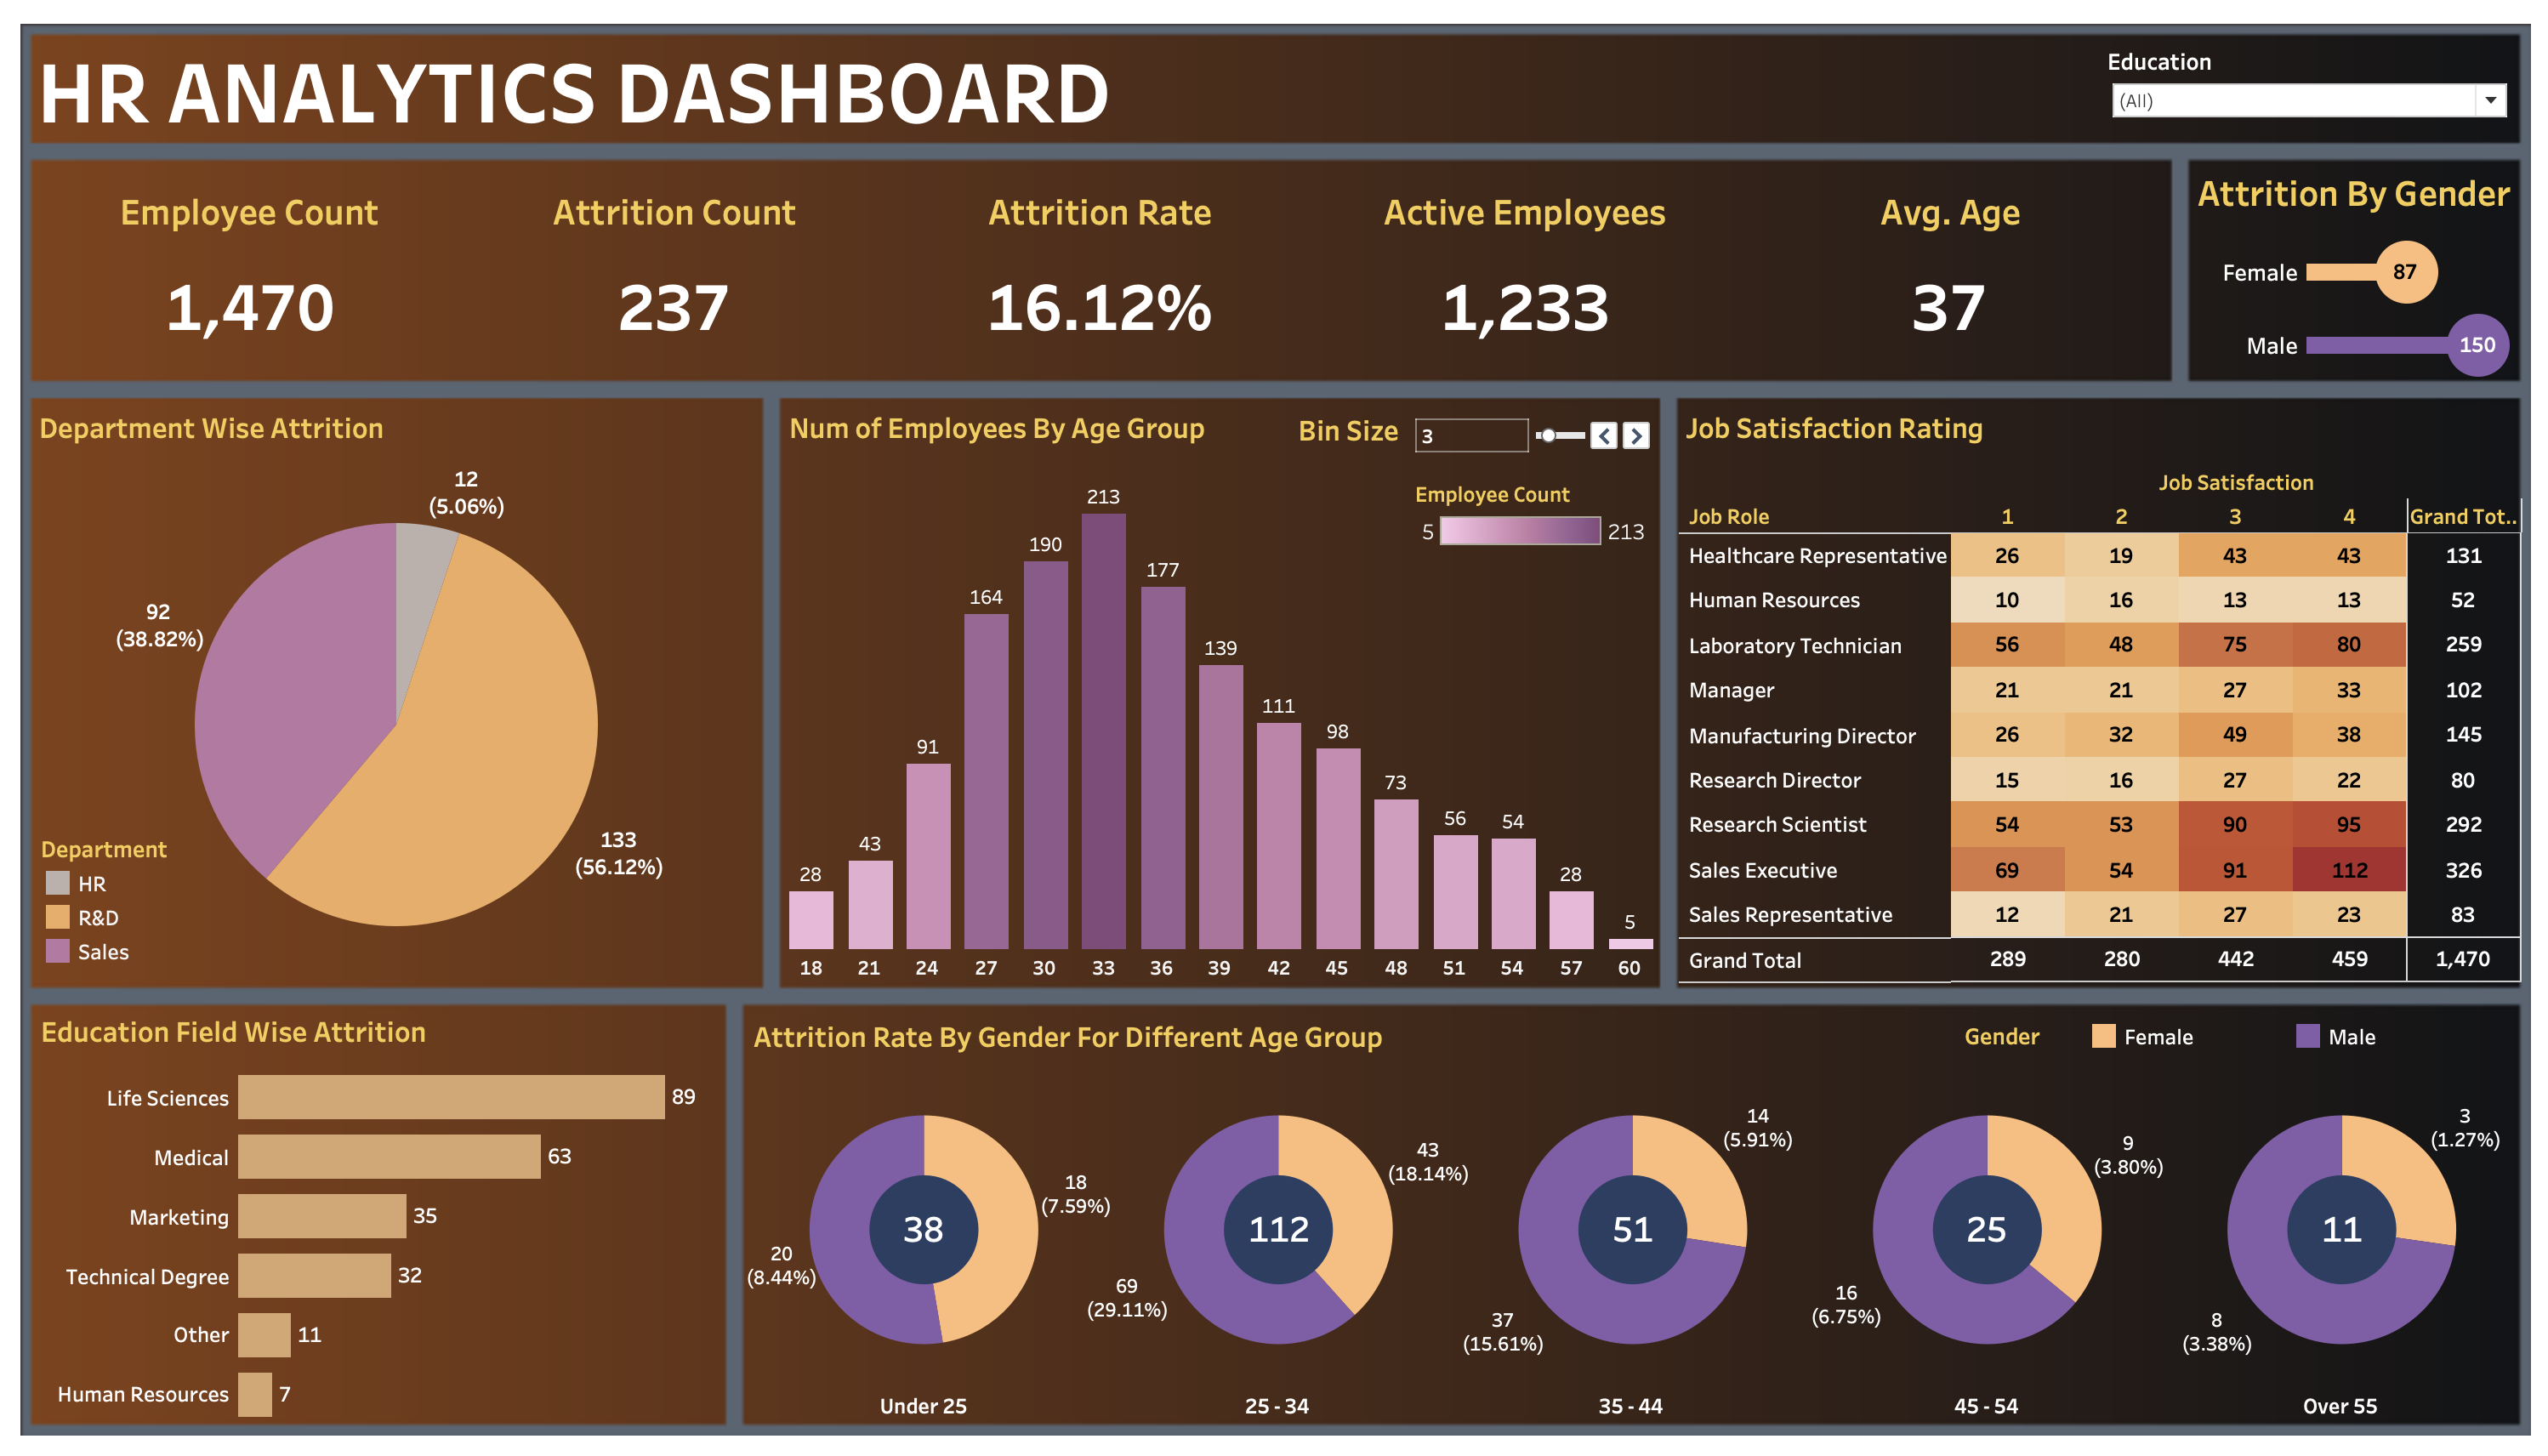

The dashboard page shown, as its layout file describes it:
{"tool":"tableau","page":{"name":"HR Analytics Dashboard","canvas":[1500,900],"ordinal":0},"visuals":[{"type":"image","param":"Image/HR background.pptx.png","box":[8,8,1484,884]},{"type":"text","box":[19,41,739,64]},{"type":"filter","title":"Department Wise Attrition","param":"[federated.1qeam2m1rrxl6e14pl3xk0htafzo].[none:Education:nk]","box":[1239,48,238,53]},{"type":"worksheet","title":"Attrition By Gender","mark":"Automatic","rows":["Gender"],"cols":["Calculation_2371848947987435520","Calculation_2371848947987435520"],"box":[1288,116,193,129]},{"type":"worksheet","title":"KPI","mark":"Automatic","box":[22,119,1250,122]},{"type":"worksheet","title":"Department Wise Attrition","mark":"Pie","box":[19,257,428,343]},{"type":"worksheet","title":"Num of Employees By Age Group","mark":"Automatic","rows":["Employee Count"],"cols":["Age (bin)"],"box":[460,257,516,342]},{"type":"worksheet","title":"Job Satisfaction Rating","mark":"Square","rows":["Job Role"],"cols":["Job Satisfaction"],"box":[987,257,496,342]},{"type":"parameter","param":"[Parameters].[Parameter 1]","box":[757,264,216,32]},{"type":"legend","title":"Num of Employees By Age Group","param":"[federated.1qeam2m1rrxl6e14pl3xk0htafzo].[sum:Employee Count:qk]","box":[832,303,140,76]},{"type":"legend","title":"Department Wise Attrition","param":"[federated.1qeam2m1rrxl6e14pl3xk0htafzo].[none:Department:nk]","box":[24,511,93,85]},{"type":"worksheet","title":"Education Field Wise Attrition","mark":"Automatic","rows":["Education Field"],"cols":["Calculation_2371848947987435520"],"box":[20,612,408,246]},{"type":"worksheet","title":"Attrition Rate By Gender For Different Age Group","mark":"Pie","rows":["Calculation_2455235909877485569","Calculation_2455235909877485569"],"cols":["CF_age band"],"box":[439,615,1042,242]},{"type":"legend","title":"Attrition Rate By Gender For Different Age Group","param":"[federated.1qeam2m1rrxl6e14pl3xk0htafzo].[none:Gender:nk]","box":[1155,620,324,25]}]}

Visuals, with their boxes in screenshot pixels (x1, y1, x2, y2):
image: [0, 0, 2534, 1455]
text: [13, 17, 1277, 127]
"Department Wise Attrition" filter: [2101, 29, 2508, 120]
"Attrition By Gender" worksheet: [2185, 145, 2515, 367]
"KPI" worksheet: [18, 151, 2157, 360]
"Department Wise Attrition" worksheet (Pie marks): [13, 387, 745, 974]
"Num of Employees By Age Group" worksheet: [767, 387, 1651, 972]
"Job Satisfaction Rating" worksheet (Square marks): [1669, 387, 2518, 972]
parameter: [1276, 399, 1646, 453]
"Num of Employees By Age Group" legend: [1404, 465, 1644, 595]
"Department Wise Attrition" legend: [21, 822, 180, 967]
"Education Field Wise Attrition" worksheet: [14, 994, 713, 1415]
"Attrition Rate By Gender For Different Age Group" worksheet (Pie marks): [731, 999, 2515, 1413]
"Attrition Rate By Gender For Different Age Group" legend: [1957, 1008, 2511, 1051]
